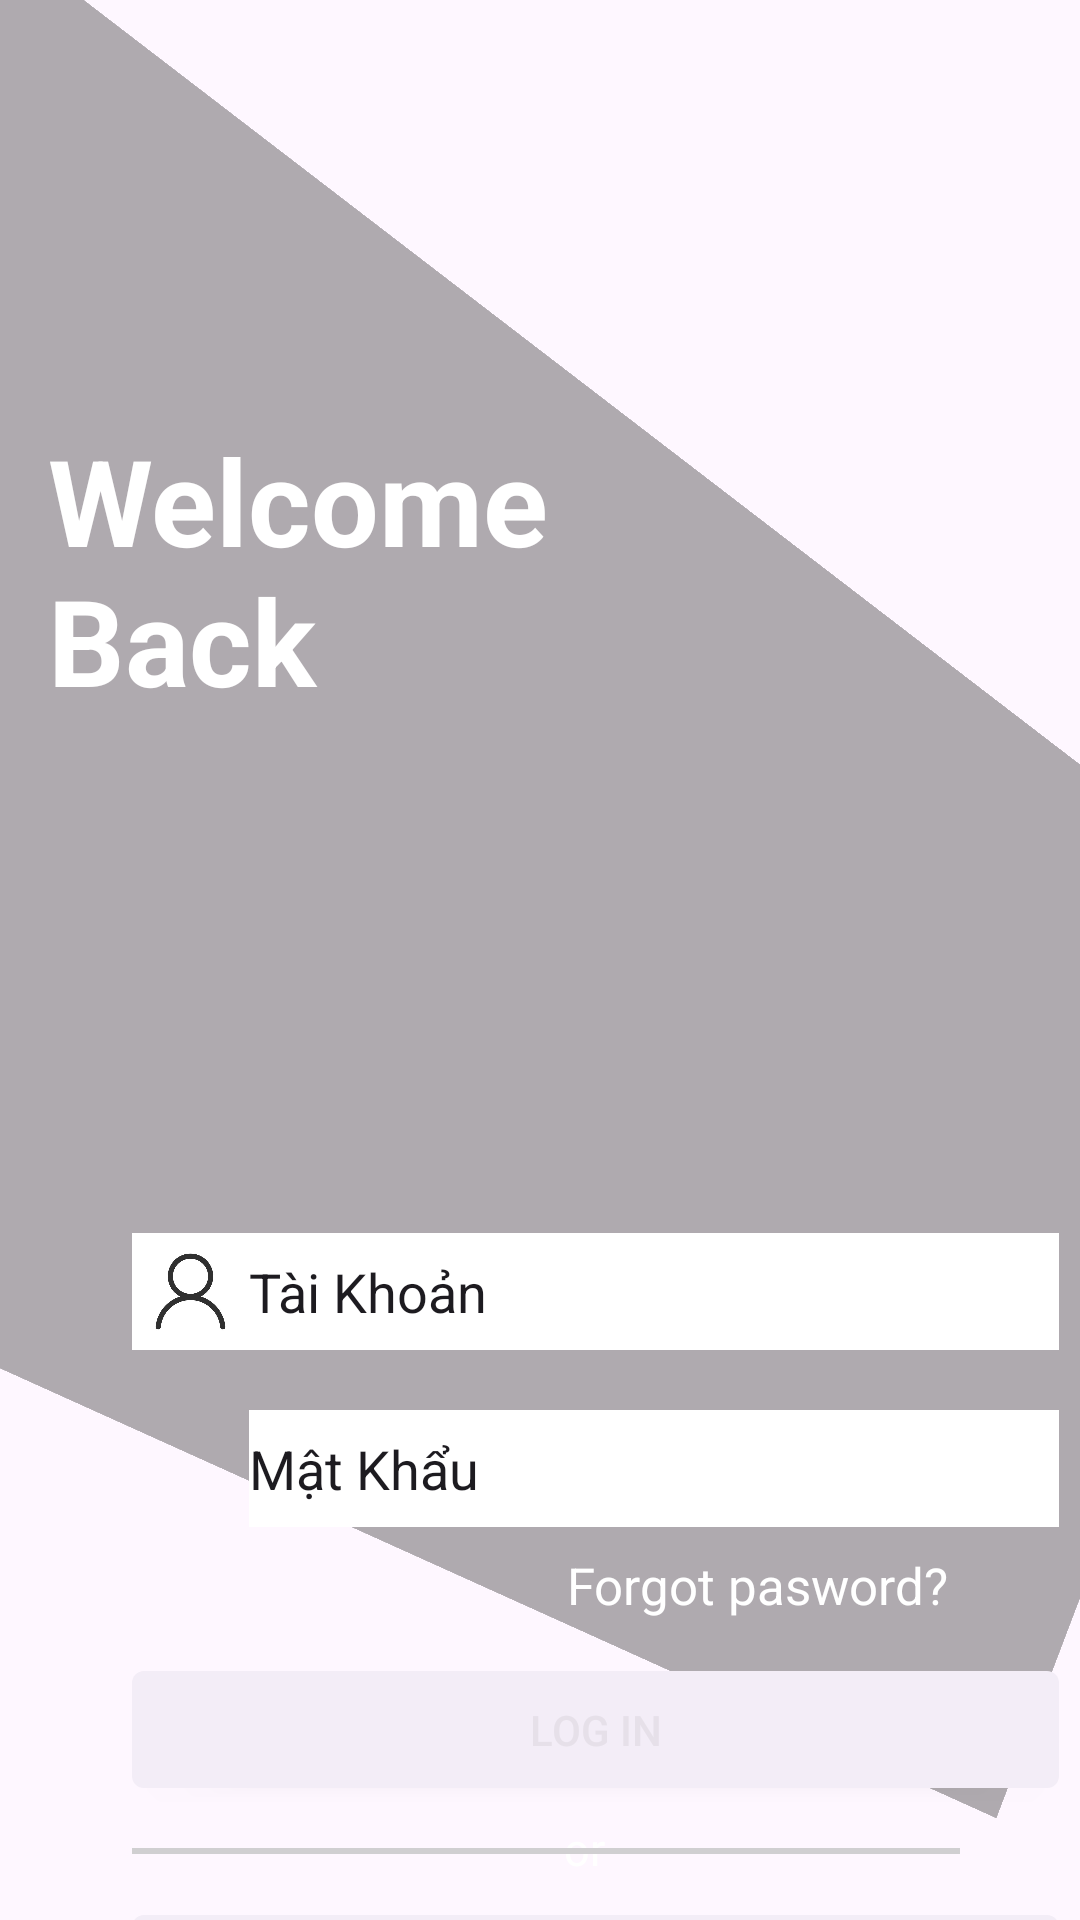

Icons on this 1080 x 1920 Android screen, each with the point to tap as (x=x, y=y):
taikhoan: (x=190, y=1291)
